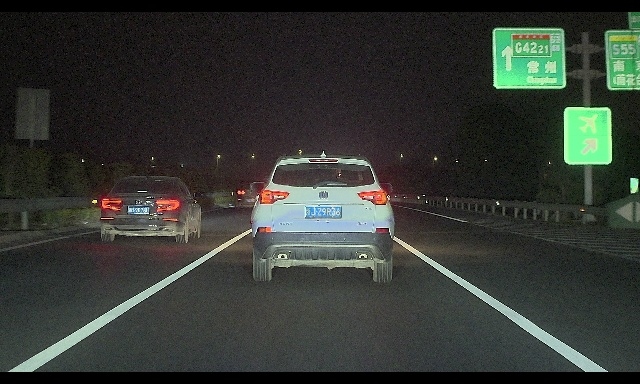car: (249, 150, 395, 283), (100, 175, 202, 243), (236, 181, 272, 209)
